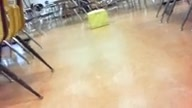cube: (86, 9, 108, 30)
